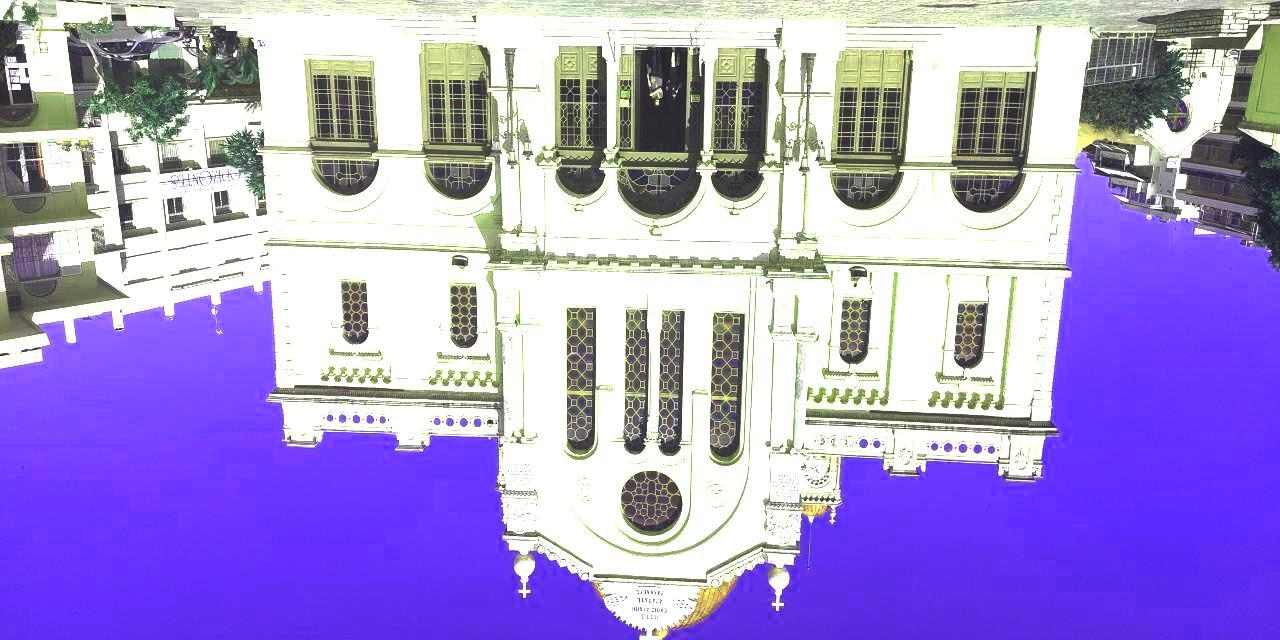Agios Minas: (255, 16, 1104, 640)
